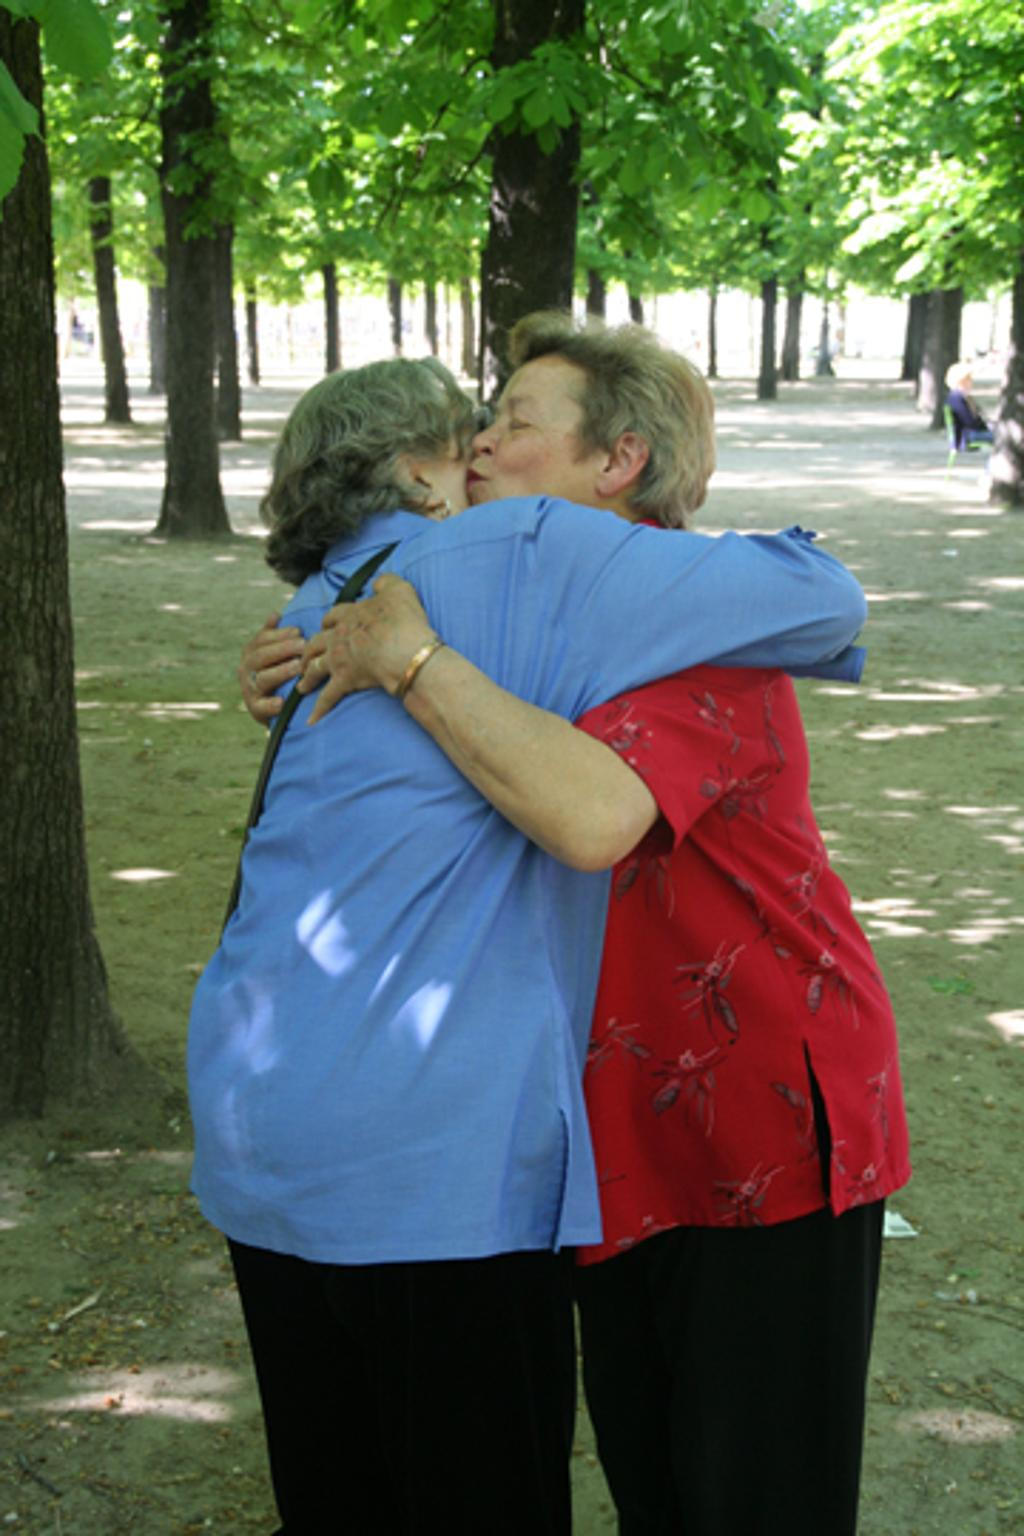face: (468, 351, 603, 504)
